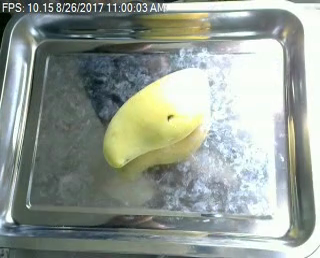Mango: (101, 61, 214, 170)
